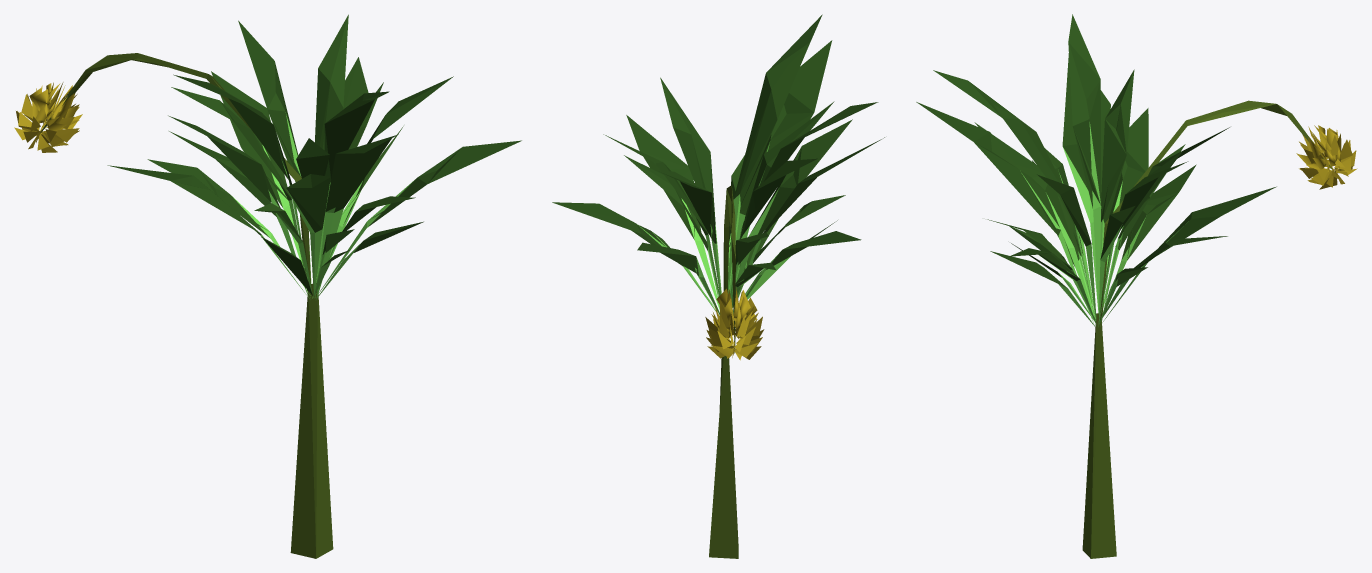
The model's file is SM_BananaTree_001_LOD6.fbx.
3 views of the same model, side by side, from view 1: azimuth 30°, elevation 25°; view 2: azimuth 150°, elevation 25°; view 3: azimuth 270°, elevation 25° (orthographic). The views are drawn at different scales.
Visible parts, largest first — view 1: BananaTree; view 2: BananaTree; view 3: BananaTree.
Boxes of the visible parts, x1,y1,x2,y2 form: BananaTree: [14, 14, 521, 558]; BananaTree: [552, 14, 884, 558]; BananaTree: [916, 14, 1357, 558].
Bounding box in the file's own units: 231 × 346 × 292.
